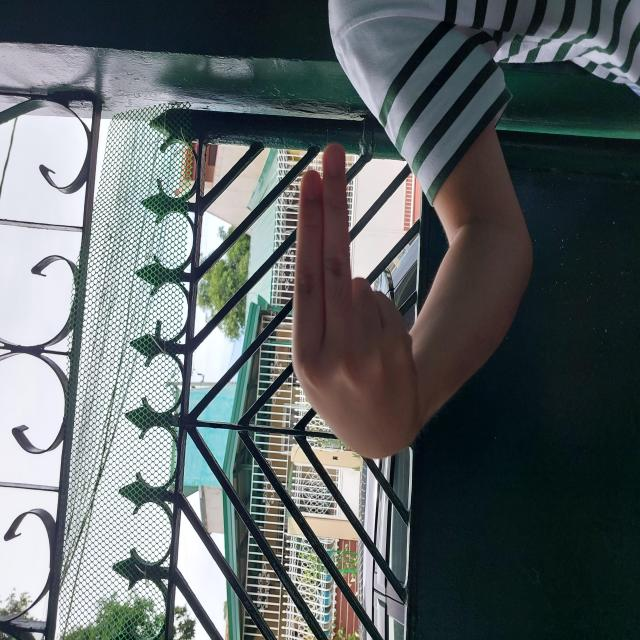H: (178, 288, 500, 422)
